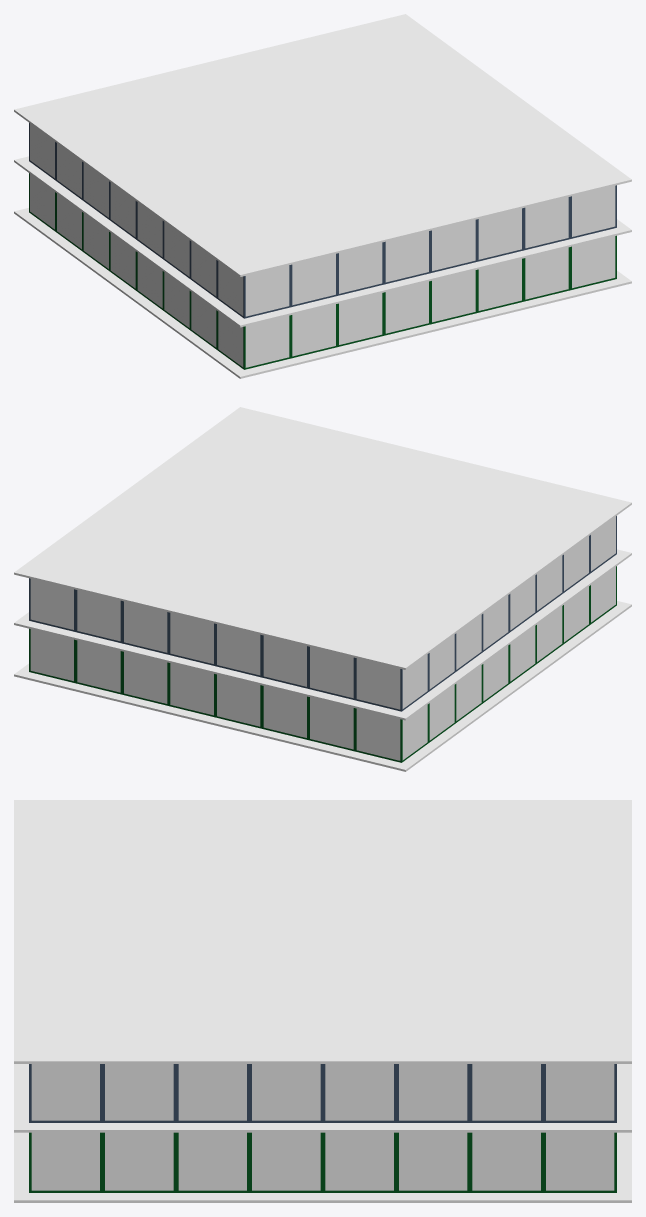
File: sky_building_bridge.glb
The picture shows the model from 3 angles, top to bottom: view 1: azimuth 30°, elevation 25°; view 2: azimuth 150°, elevation 25°; view 3: azimuth 270°, elevation 25°; orthographic projection. The views are drawn at different scales.
Parts seen in each view (by area): view 1: Plane.003, Plane.001, Plane.002; view 2: Plane.003, Plane.001, Plane.002; view 3: Plane.003, Plane.001, Plane.002.
Part boxes in pixels (x1=…): Plane.003: x1=14, y1=14, x2=631, y2=276; Plane.001: x1=14, y1=123, x2=631, y2=369; Plane.002: x1=14, y1=208, x2=631, y2=378; Plane.003: x1=14, y1=407, x2=631, y2=669; Plane.001: x1=14, y1=516, x2=631, y2=762; Plane.002: x1=14, y1=601, x2=631, y2=771; Plane.003: x1=14, y1=800, x2=631, y2=1063; Plane.001: x1=14, y1=1064, x2=631, y2=1192; Plane.002: x1=14, y1=1132, x2=631, y2=1202.
Bounding box in the file's own units: 4.27 × 1.08 × 4.27.
